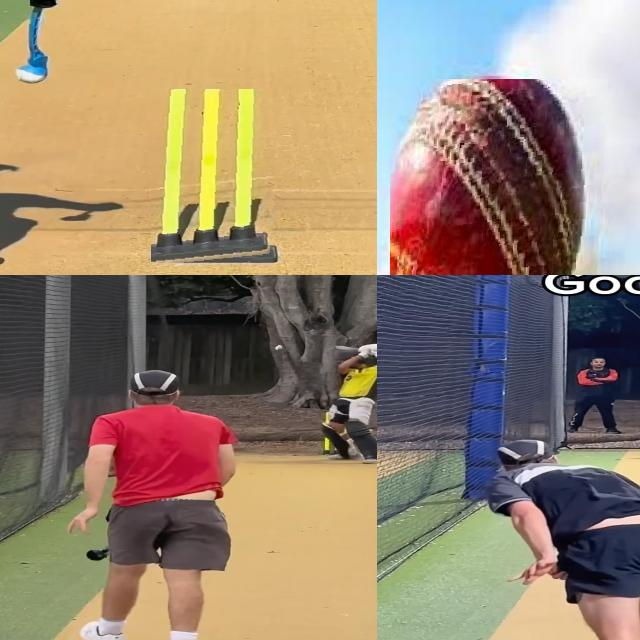Cricket ball: (390, 79, 610, 275), (273, 344, 285, 352)
Stumps: (151, 89, 280, 267)
